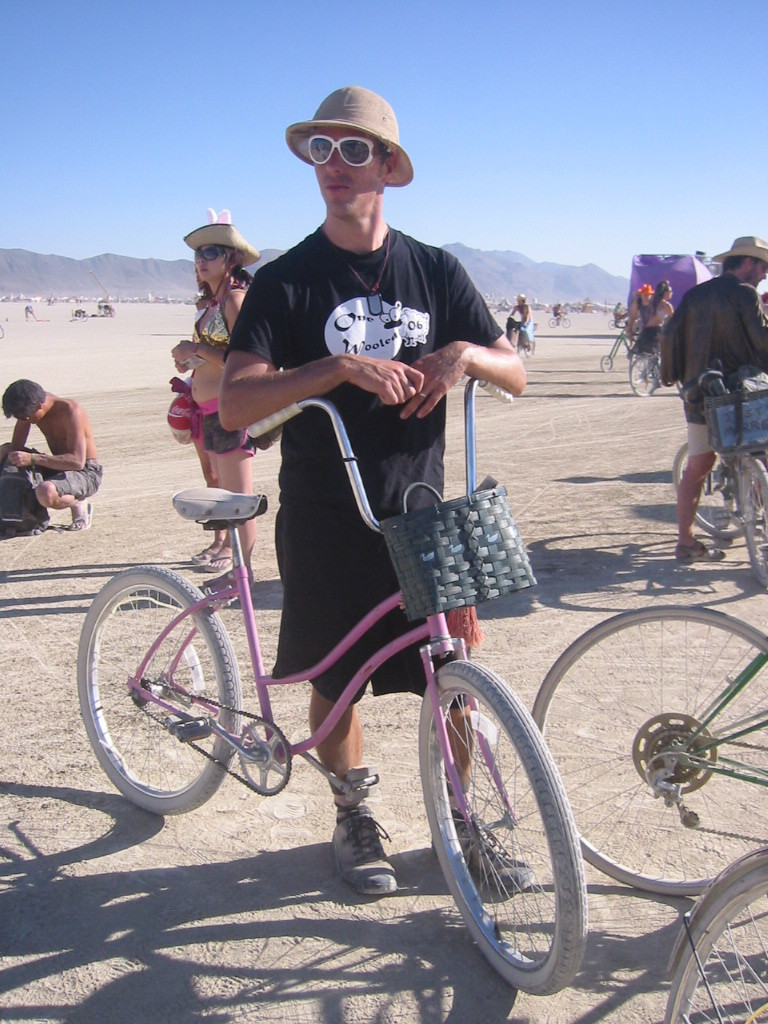Bike: (86, 383, 588, 989)
